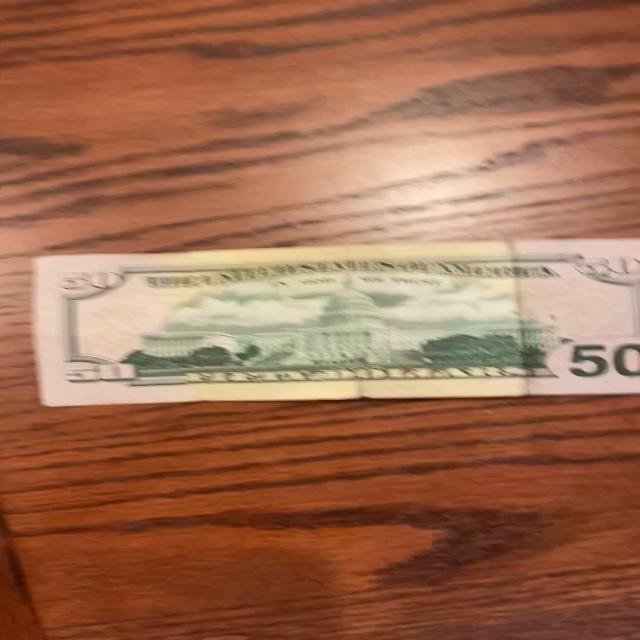50-Back: (26, 232, 640, 410)
